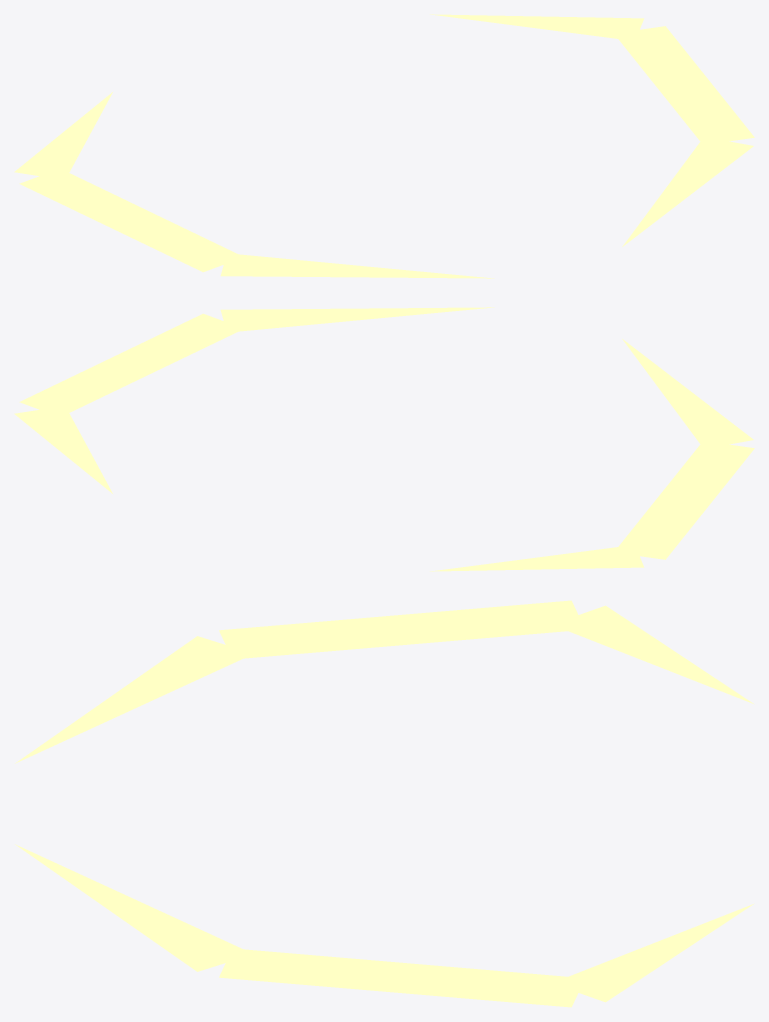
Rendered from proc_vigor.glb.
3 renders of one model, top to bottom at view 1: azimuth 30°, elevation 25°; view 2: azimuth 150°, elevation 25°; view 3: azimuth 270°, elevation 25°, orthographic. The views are drawn at different scales.
Parts seen in each view (by area): view 1: proc_vigor sparse contact artwork; view 2: proc_vigor sparse contact artwork; view 3: proc_vigor sparse contact artwork.
Part boxes in pixels (<box>): proc_vigor sparse contact artwork: <box>14,14,754,278</box>; proc_vigor sparse contact artwork: <box>14,307,754,571</box>; proc_vigor sparse contact artwork: <box>15,600,754,1007</box>.
Size of the model in its own units: 0.8188 by 0 by 0.63.
